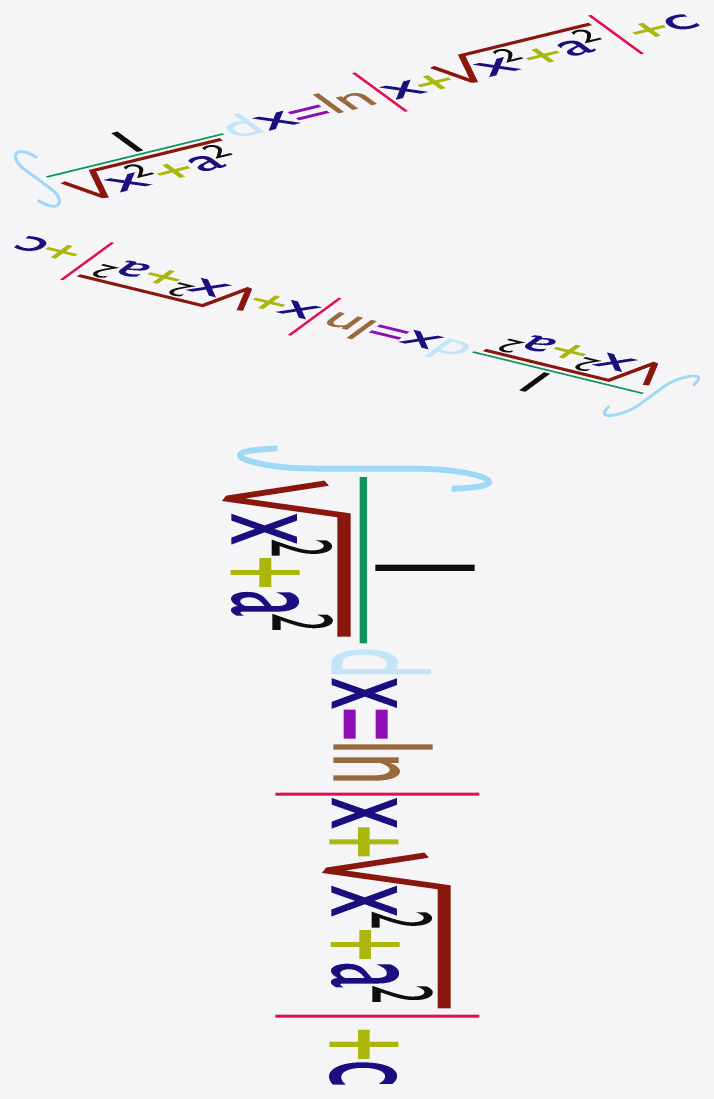
The model's file is int1peradxla2plusala2.glb.
The picture shows the model from 3 angles, top to bottom: view 1: azimuth 30°, elevation 25°; view 2: azimuth 150°, elevation 25°; view 3: azimuth 270°, elevation 25°; orthographic projection. The views are drawn at different scales.
Parts seen in each view (by area): view 1: int din 1 pe rad din x la 2 plus a la 2 dx; view 2: int din 1 pe rad din x la 2 plus a la 2 dx; view 3: int din 1 pe rad din x la 2 plus a la 2 dx.
Part boxes in pixels (x1,y1,x2,y2): int din 1 pe rad din x la 2 plus a la 2 dx: (14, 14, 699, 207); int din 1 pe rad din x la 2 plus a la 2 dx: (14, 236, 699, 416); int din 1 pe rad din x la 2 plus a la 2 dx: (222, 445, 491, 1084).
Bounding box in the file's own units: 10.34 × 0.0401 × 1.85.
